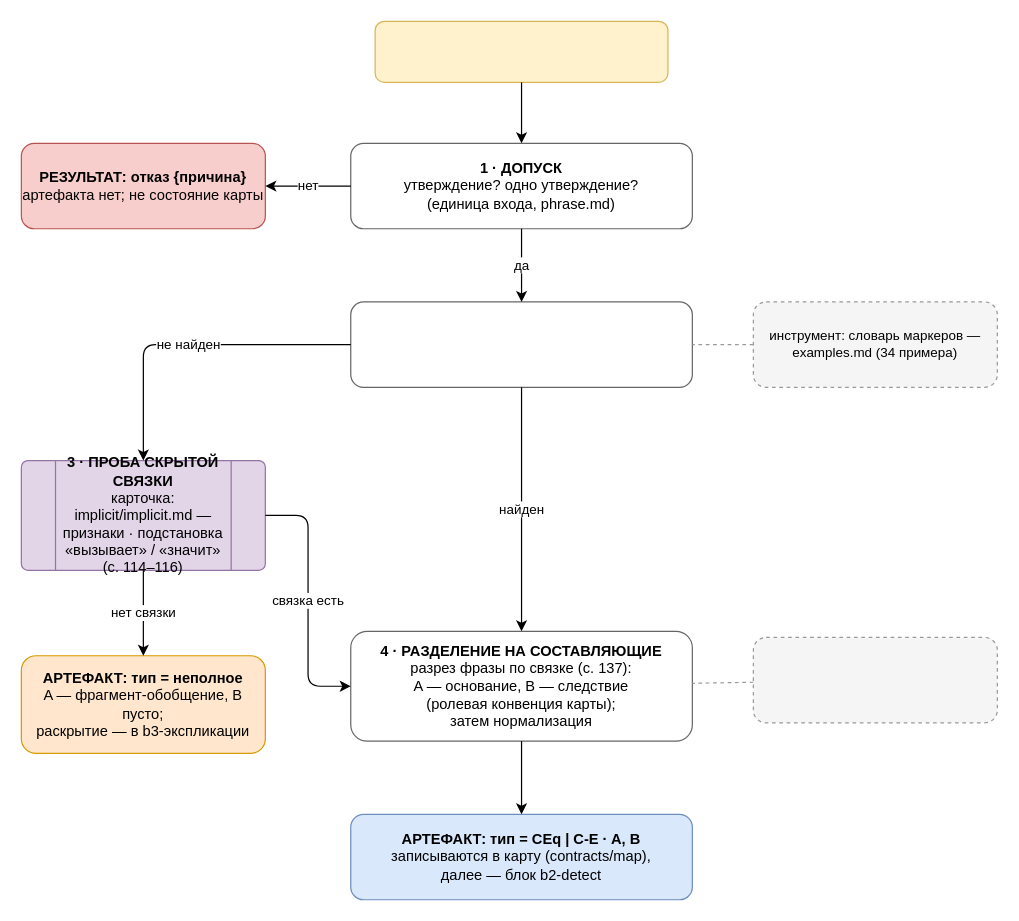
This 1019x921 diagram has some shape labels left out. Each missing label, with the centre of its shape:
"2 · ЯВНЫЙ МАРКЕР поиск связки по словарю CEq / C-E (с. 114)" goes at (521,344).
"нормализация звена — отдельный алгоритм: normalize/normalize.md" goes at (874,679).
"старт: фраза · contracts/phrase" goes at (521,51).
